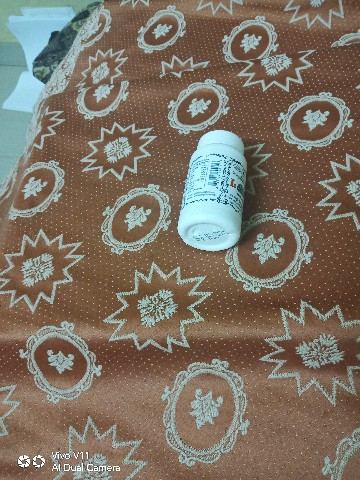lgasafoetidapowder large: (157, 115, 262, 271)
